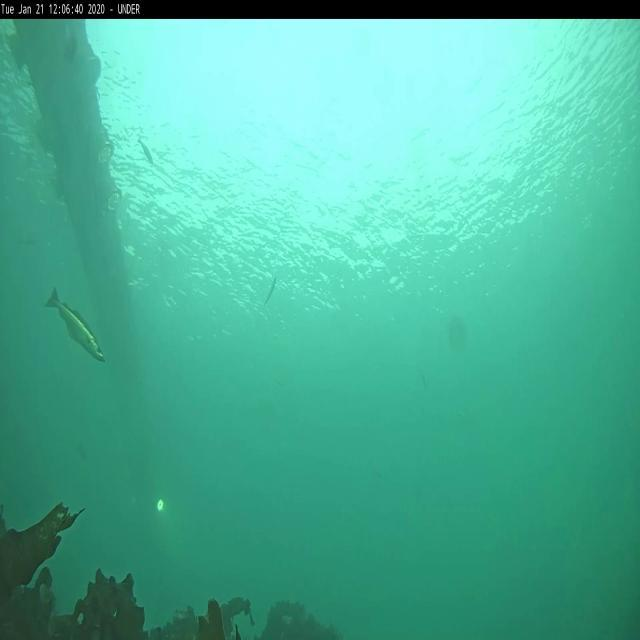fish: (42, 286, 106, 362), (137, 136, 154, 168), (262, 274, 278, 307)
